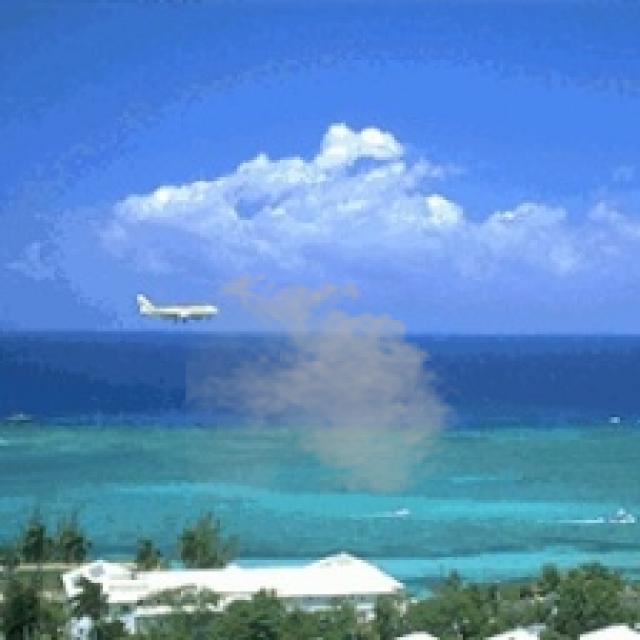smoke: (186, 266, 468, 503)
